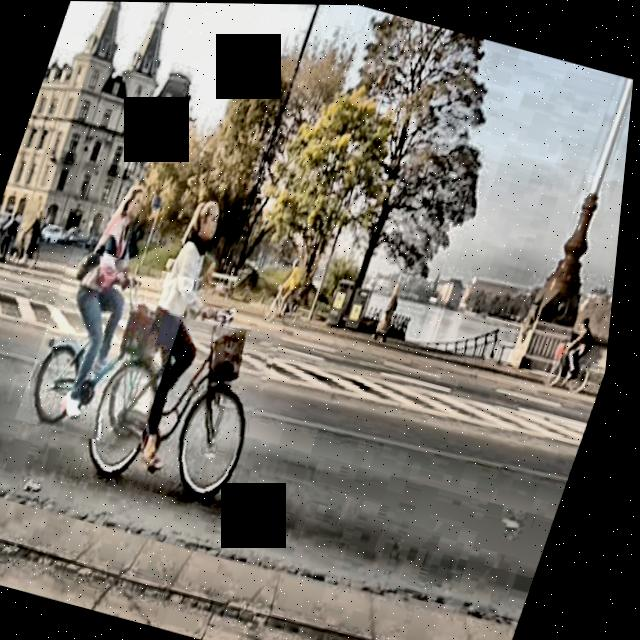bicycle: (67, 295, 290, 516), (20, 246, 203, 452)
